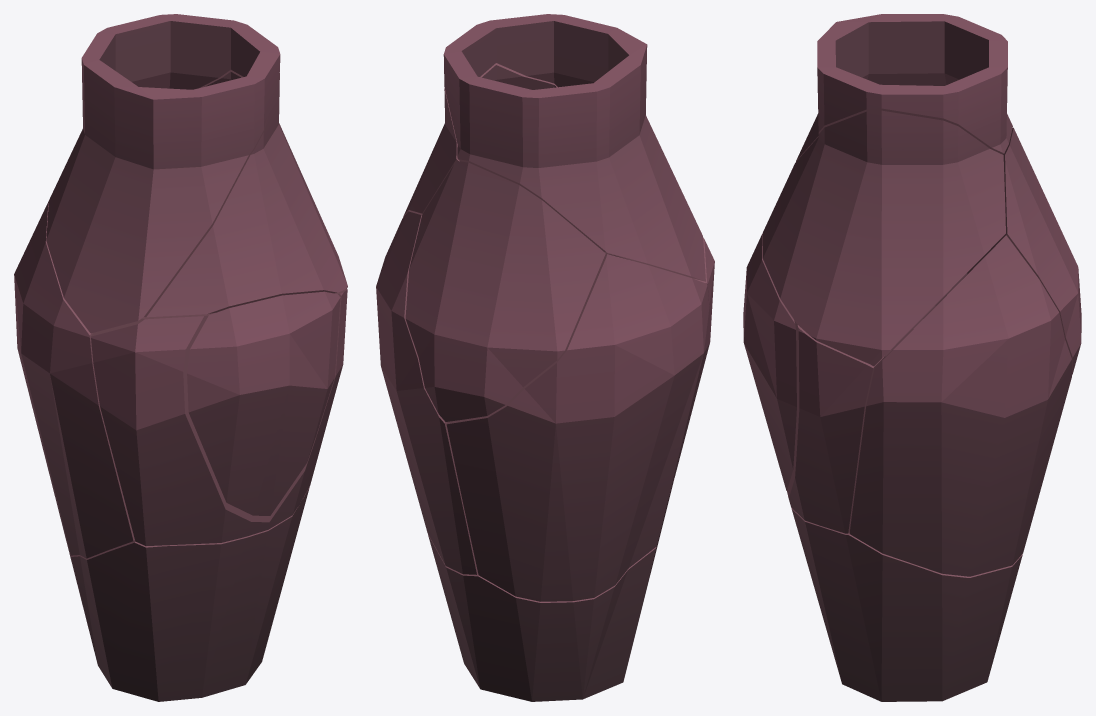
The model's file is Pot_Broken.fbx.
The picture shows the model from 3 angles, left to right: view 1: azimuth 30°, elevation 25°; view 2: azimuth 150°, elevation 25°; view 3: azimuth 270°, elevation 25°; orthographic projection.
Visible parts, largest first — view 1: Kavanoz_Shard_08, Kavanoz_Shard_07, Kavanoz_Shard_05, Kavanoz_Shard_02, Kavanoz_Shard_01, Kavanoz_Shard_06; view 2: Kavanoz_Shard_01, Kavanoz_Shard_08, Kavanoz_Shard_03, Kavanoz_Shard_07, Kavanoz_Shard_04, Kavanoz_Shard_06, Kavanoz_Shard_02; view 3: Kavanoz_Shard_04, Kavanoz_Shard_06, Kavanoz_Shard_07, Kavanoz_Shard_08, Kavanoz_Shard_02, Kavanoz_Shard_05, Kavanoz_Shard_03.
Boxes of the visible parts, left/top/right/bottom form: Kavanoz_Shard_08: left=46, top=14, right=280, bottom=333; Kavanoz_Shard_07: left=69, top=487, right=309, bottom=701; Kavanoz_Shard_05: left=187, top=291, right=340, bottom=515; Kavanoz_Shard_02: left=91, top=288, right=347, bottom=545; Kavanoz_Shard_01: left=14, top=203, right=134, bottom=558; Kavanoz_Shard_06: left=144, top=70, right=347, bottom=317; Kavanoz_Shard_01: left=446, top=254, right=709, bottom=601; Kavanoz_Shard_08: left=443, top=14, right=705, bottom=281; Kavanoz_Shard_03: left=405, top=161, right=605, bottom=421; Kavanoz_Shard_07: left=428, top=479, right=674, bottom=701; Kavanoz_Shard_04: left=376, top=211, right=477, bottom=574; Kavanoz_Shard_06: left=403, top=63, right=557, bottom=217; Kavanoz_Shard_02: left=609, top=238, right=714, bottom=479; Kavanoz_Shard_04: left=849, top=235, right=1071, bottom=576; Kavanoz_Shard_06: left=762, top=110, right=1005, bottom=366; Kavanoz_Shard_07: left=791, top=508, right=1022, bottom=701; Kavanoz_Shard_08: left=796, top=14, right=1012, bottom=161; Kavanoz_Shard_02: left=787, top=320, right=885, bottom=533; Kavanoz_Shard_05: left=743, top=234, right=796, bottom=490; Kavanoz_Shard_03: left=1000, top=127, right=1081, bottom=374.
Bounding box in the file's own units: 37.38 × 75.14 × 37.42.
